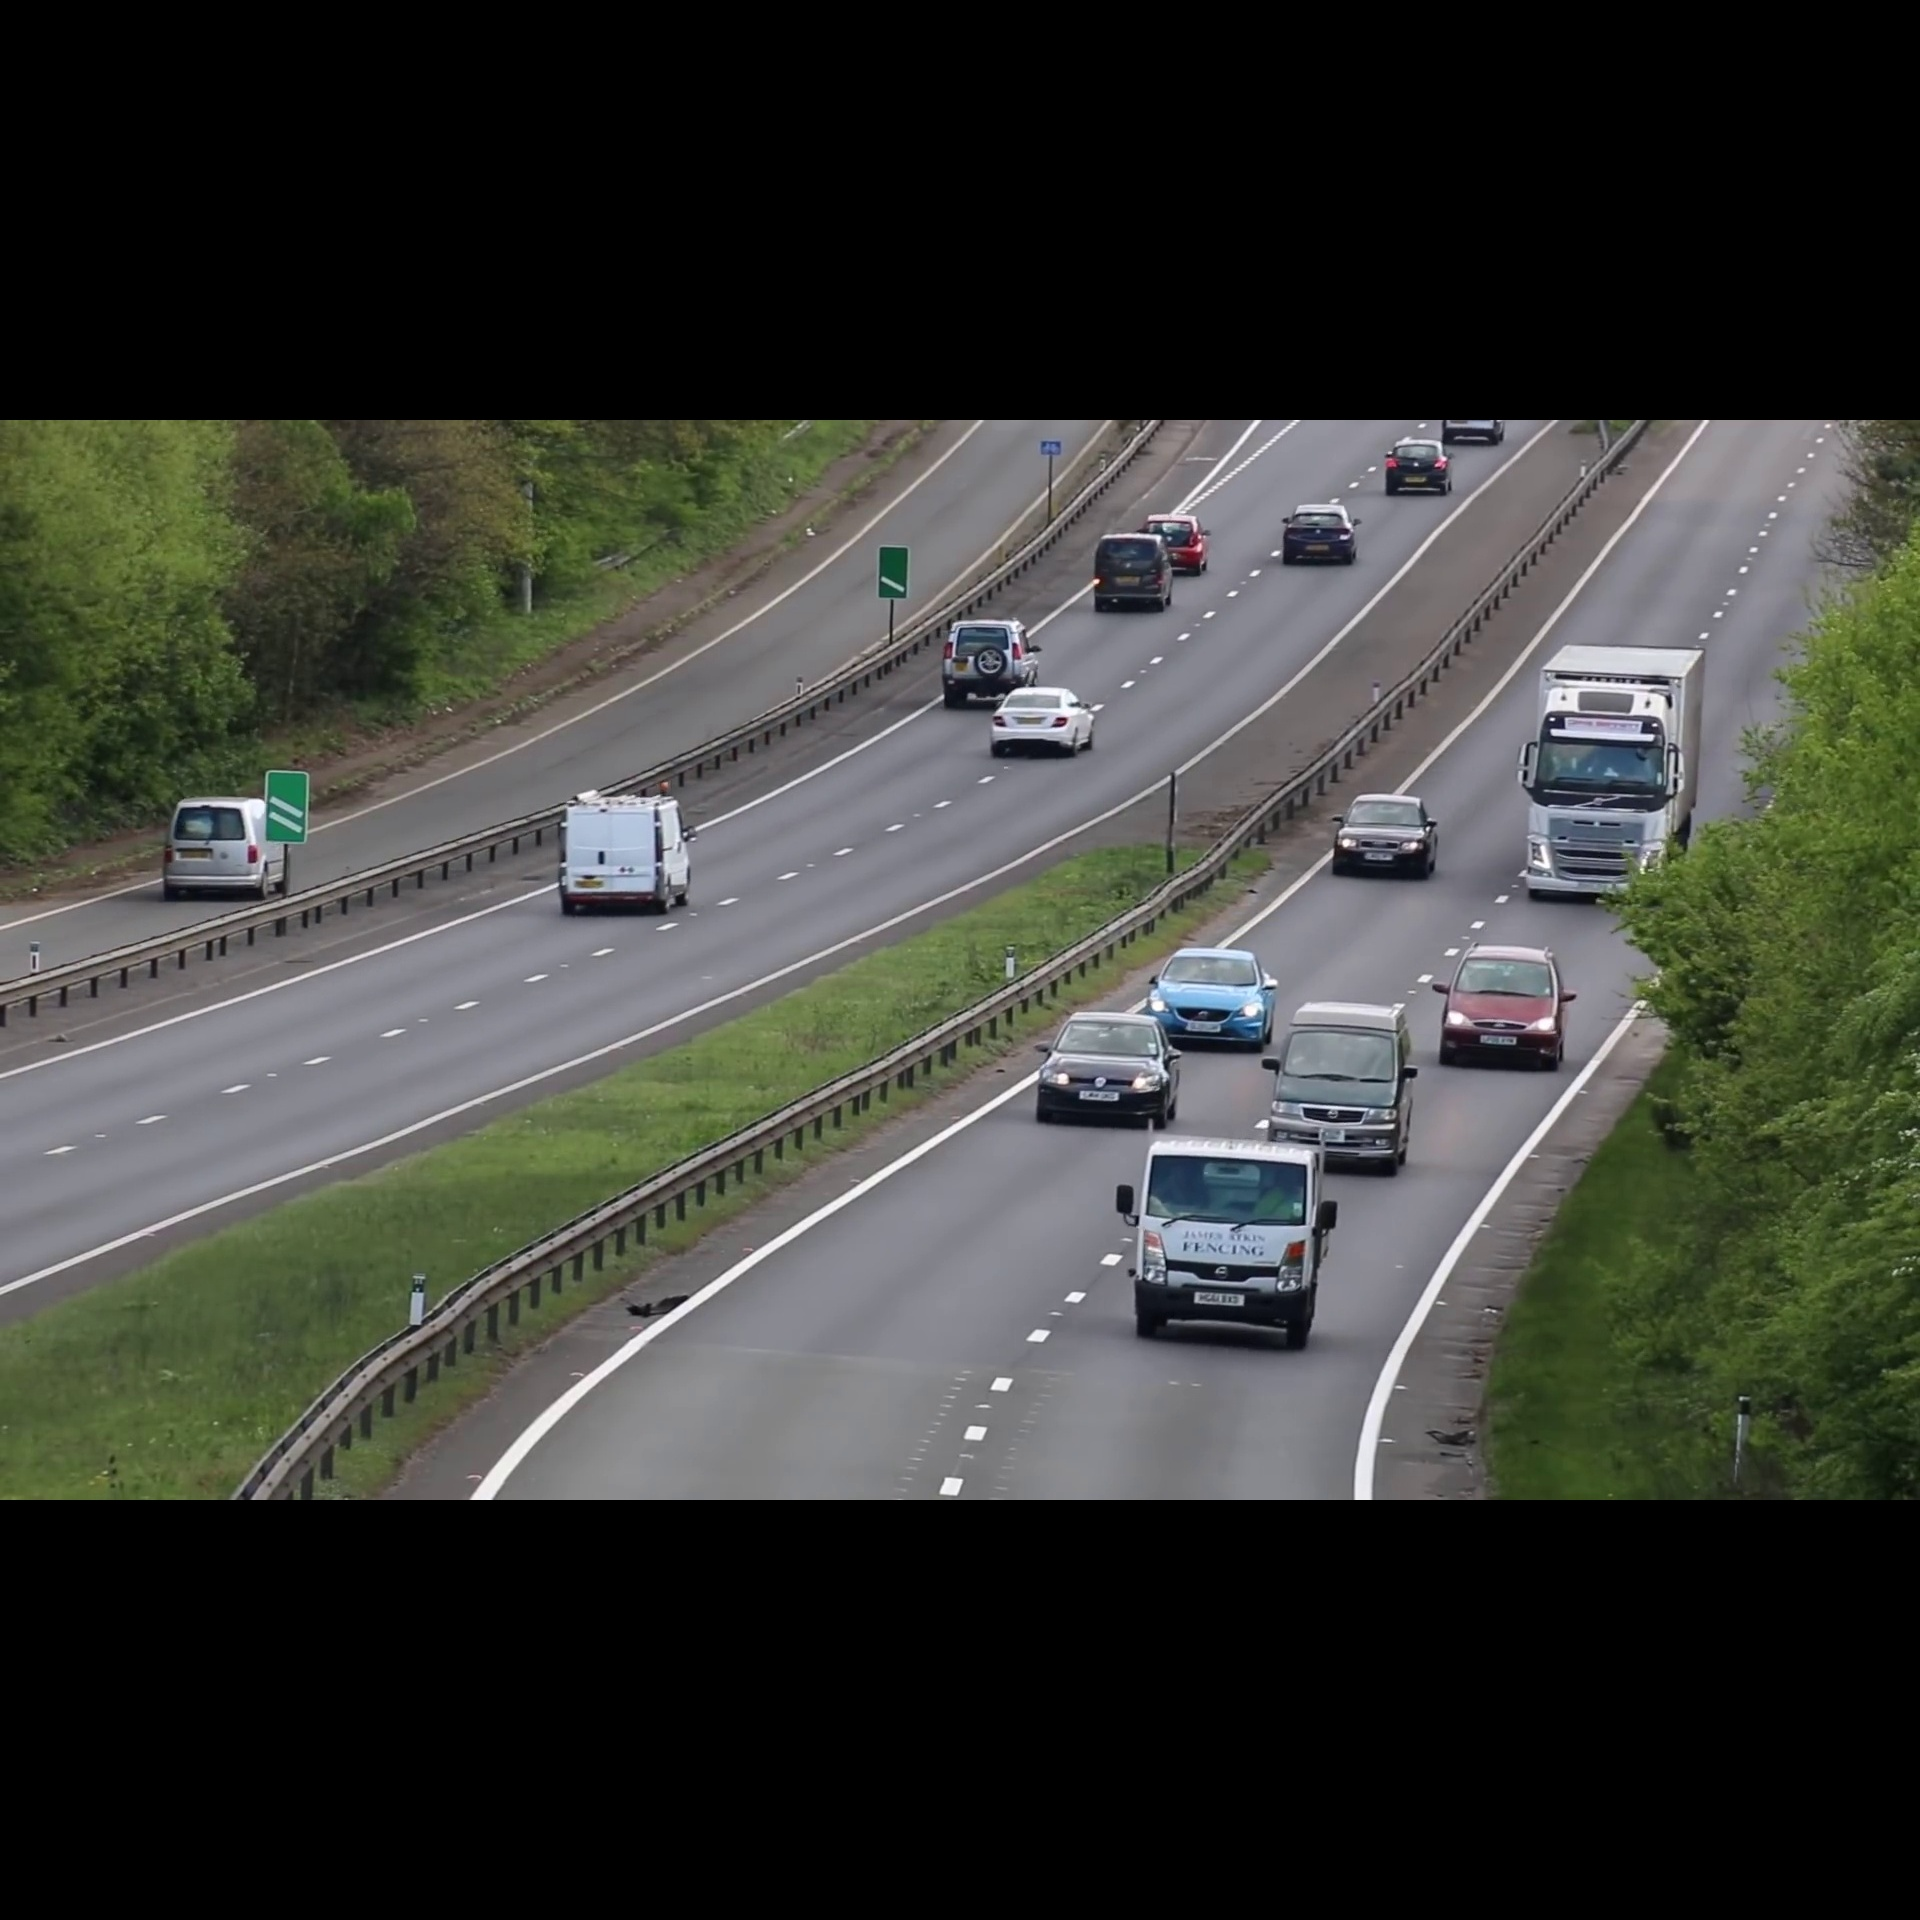vehicle: (1519, 645, 1718, 905), (1125, 1131, 1326, 1352), (1264, 999, 1424, 1166), (552, 788, 702, 918), (1438, 934, 1575, 1074), (1034, 1002, 1180, 1131), (156, 789, 299, 905), (1143, 942, 1275, 1044), (1327, 788, 1444, 879), (985, 686, 1097, 761), (941, 615, 1037, 700), (1092, 535, 1173, 614), (1278, 501, 1361, 566), (1382, 438, 1451, 498), (1146, 512, 1210, 573)
